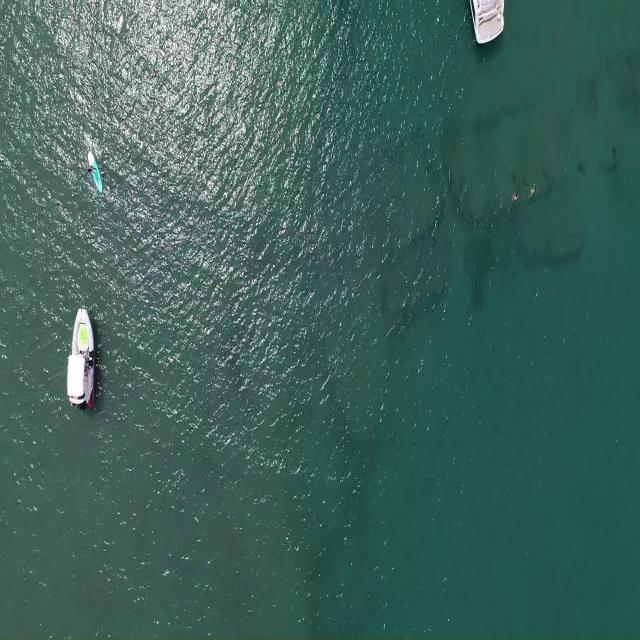boat: (65, 297, 97, 417)
person: (527, 185, 542, 199), (87, 163, 98, 178), (512, 192, 520, 202)
surfboard: (87, 148, 102, 198)
